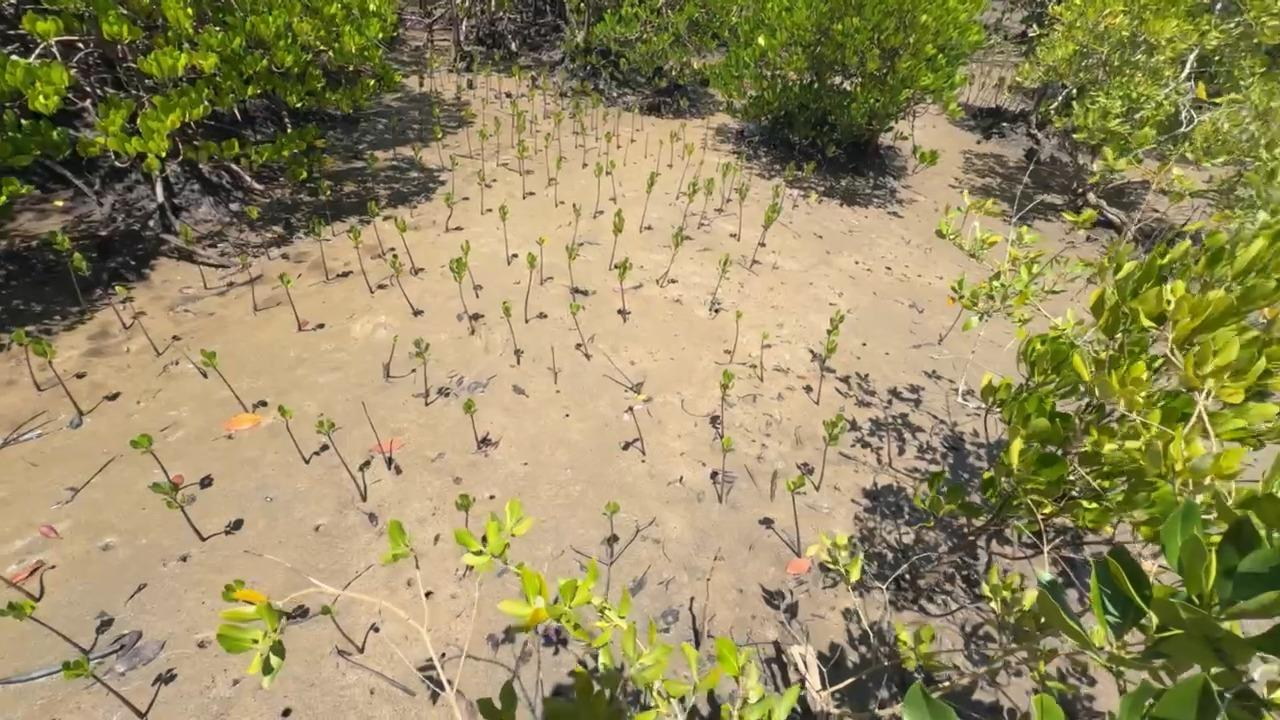Tree: (61, 656, 146, 720), (0, 598, 88, 656), (73, 251, 129, 330), (314, 419, 367, 502), (31, 336, 84, 416), (147, 481, 206, 542), (47, 228, 89, 313), (115, 286, 162, 356), (200, 349, 249, 413), (816, 413, 849, 492), (129, 433, 173, 484), (320, 604, 364, 653), (449, 256, 475, 335), (11, 327, 43, 391), (362, 402, 391, 471), (178, 223, 208, 289), (750, 202, 779, 270), (347, 221, 374, 292), (277, 404, 309, 460), (786, 475, 806, 558), (390, 254, 416, 317), (660, 226, 686, 288), (603, 353, 640, 395), (243, 205, 271, 260), (816, 339, 838, 406), (278, 272, 302, 332), (309, 214, 329, 280), (761, 182, 781, 247), (569, 302, 590, 362), (502, 299, 521, 365), (614, 256, 633, 322), (394, 216, 416, 273), (710, 253, 731, 312), (792, 161, 817, 210), (412, 336, 429, 407), (623, 405, 647, 455), (675, 142, 695, 201), (0, 576, 41, 604), (238, 252, 257, 311), (640, 171, 658, 233), (720, 368, 735, 442), (719, 436, 735, 504), (367, 200, 386, 256), (461, 240, 479, 298), (682, 175, 702, 227), (463, 398, 482, 450), (938, 308, 965, 344), (609, 208, 624, 271), (604, 500, 620, 559), (524, 252, 537, 324), (514, 110, 528, 176), (697, 177, 714, 231), (565, 242, 579, 302), (912, 149, 943, 176), (779, 160, 796, 208), (517, 139, 530, 200), (455, 492, 476, 529), (729, 310, 743, 364), (737, 181, 749, 243), (460, 105, 474, 158), (491, 52, 504, 109), (719, 161, 732, 215), (499, 202, 510, 265), (431, 124, 445, 170), (431, 103, 445, 149), (760, 331, 772, 383), (827, 307, 845, 341), (593, 162, 603, 219), (365, 152, 379, 191), (386, 335, 398, 378), (726, 162, 738, 203), (428, 56, 440, 96), (477, 126, 486, 179), (471, 48, 480, 100), (481, 63, 492, 105), (735, 152, 746, 193), (444, 191, 455, 232), (536, 236, 545, 284), (477, 168, 486, 216), (528, 87, 537, 135), (572, 202, 582, 245), (557, 110, 566, 157), (541, 78, 551, 120), (604, 131, 613, 177), (449, 154, 459, 195), (554, 156, 562, 207), (493, 116, 501, 166), (891, 128, 910, 148), (544, 132, 551, 185), (609, 160, 617, 205), (511, 62, 521, 98), (595, 92, 602, 143), (390, 116, 398, 160), (509, 99, 516, 147), (669, 129, 677, 169), (572, 97, 580, 136), (436, 52, 444, 88), (582, 131, 589, 170), (680, 122, 687, 159), (616, 108, 622, 149), (656, 139, 663, 174), (551, 111, 559, 141), (551, 345, 557, 384), (456, 65, 463, 96), (591, 91, 596, 133), (534, 113, 538, 156), (623, 140, 629, 167), (598, 131, 603, 157), (482, 98, 486, 129), (631, 107, 634, 144), (640, 104, 644, 131), (576, 117, 579, 149), (645, 132, 648, 159), (430, 67, 432, 93), (585, 102, 588, 116)
